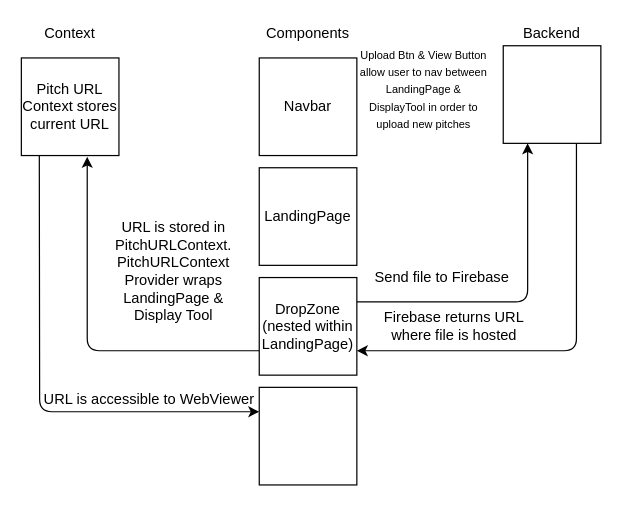
Some shapes in this 622 by 506 pixel diagram are drawn without their labels. The centre of each missing label's shape, as x and y in pixels:
"DisplayTool" goes at (x=307, y=435).
"Firebase Storage" goes at (x=551, y=94).
